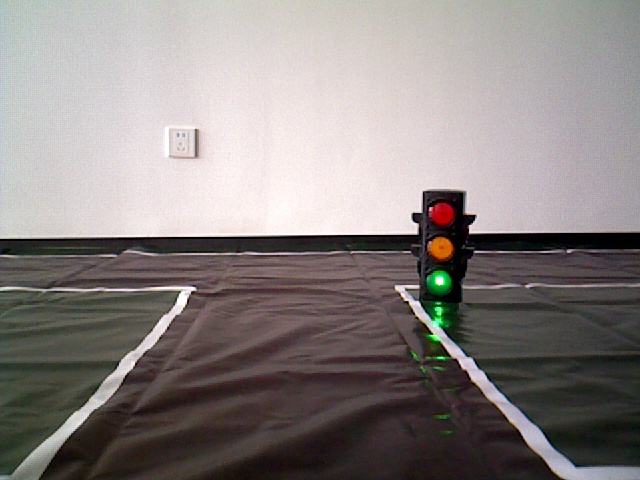green: (420, 197, 459, 296)
